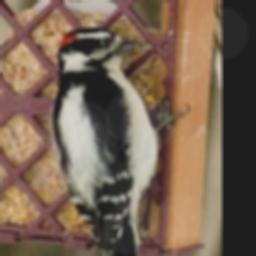Woodpecker: (53, 27, 189, 256)
